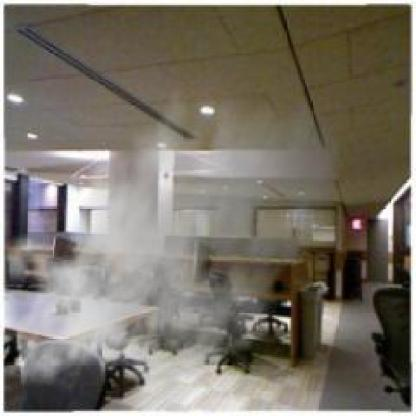Smoke: (5, 64, 345, 411)
